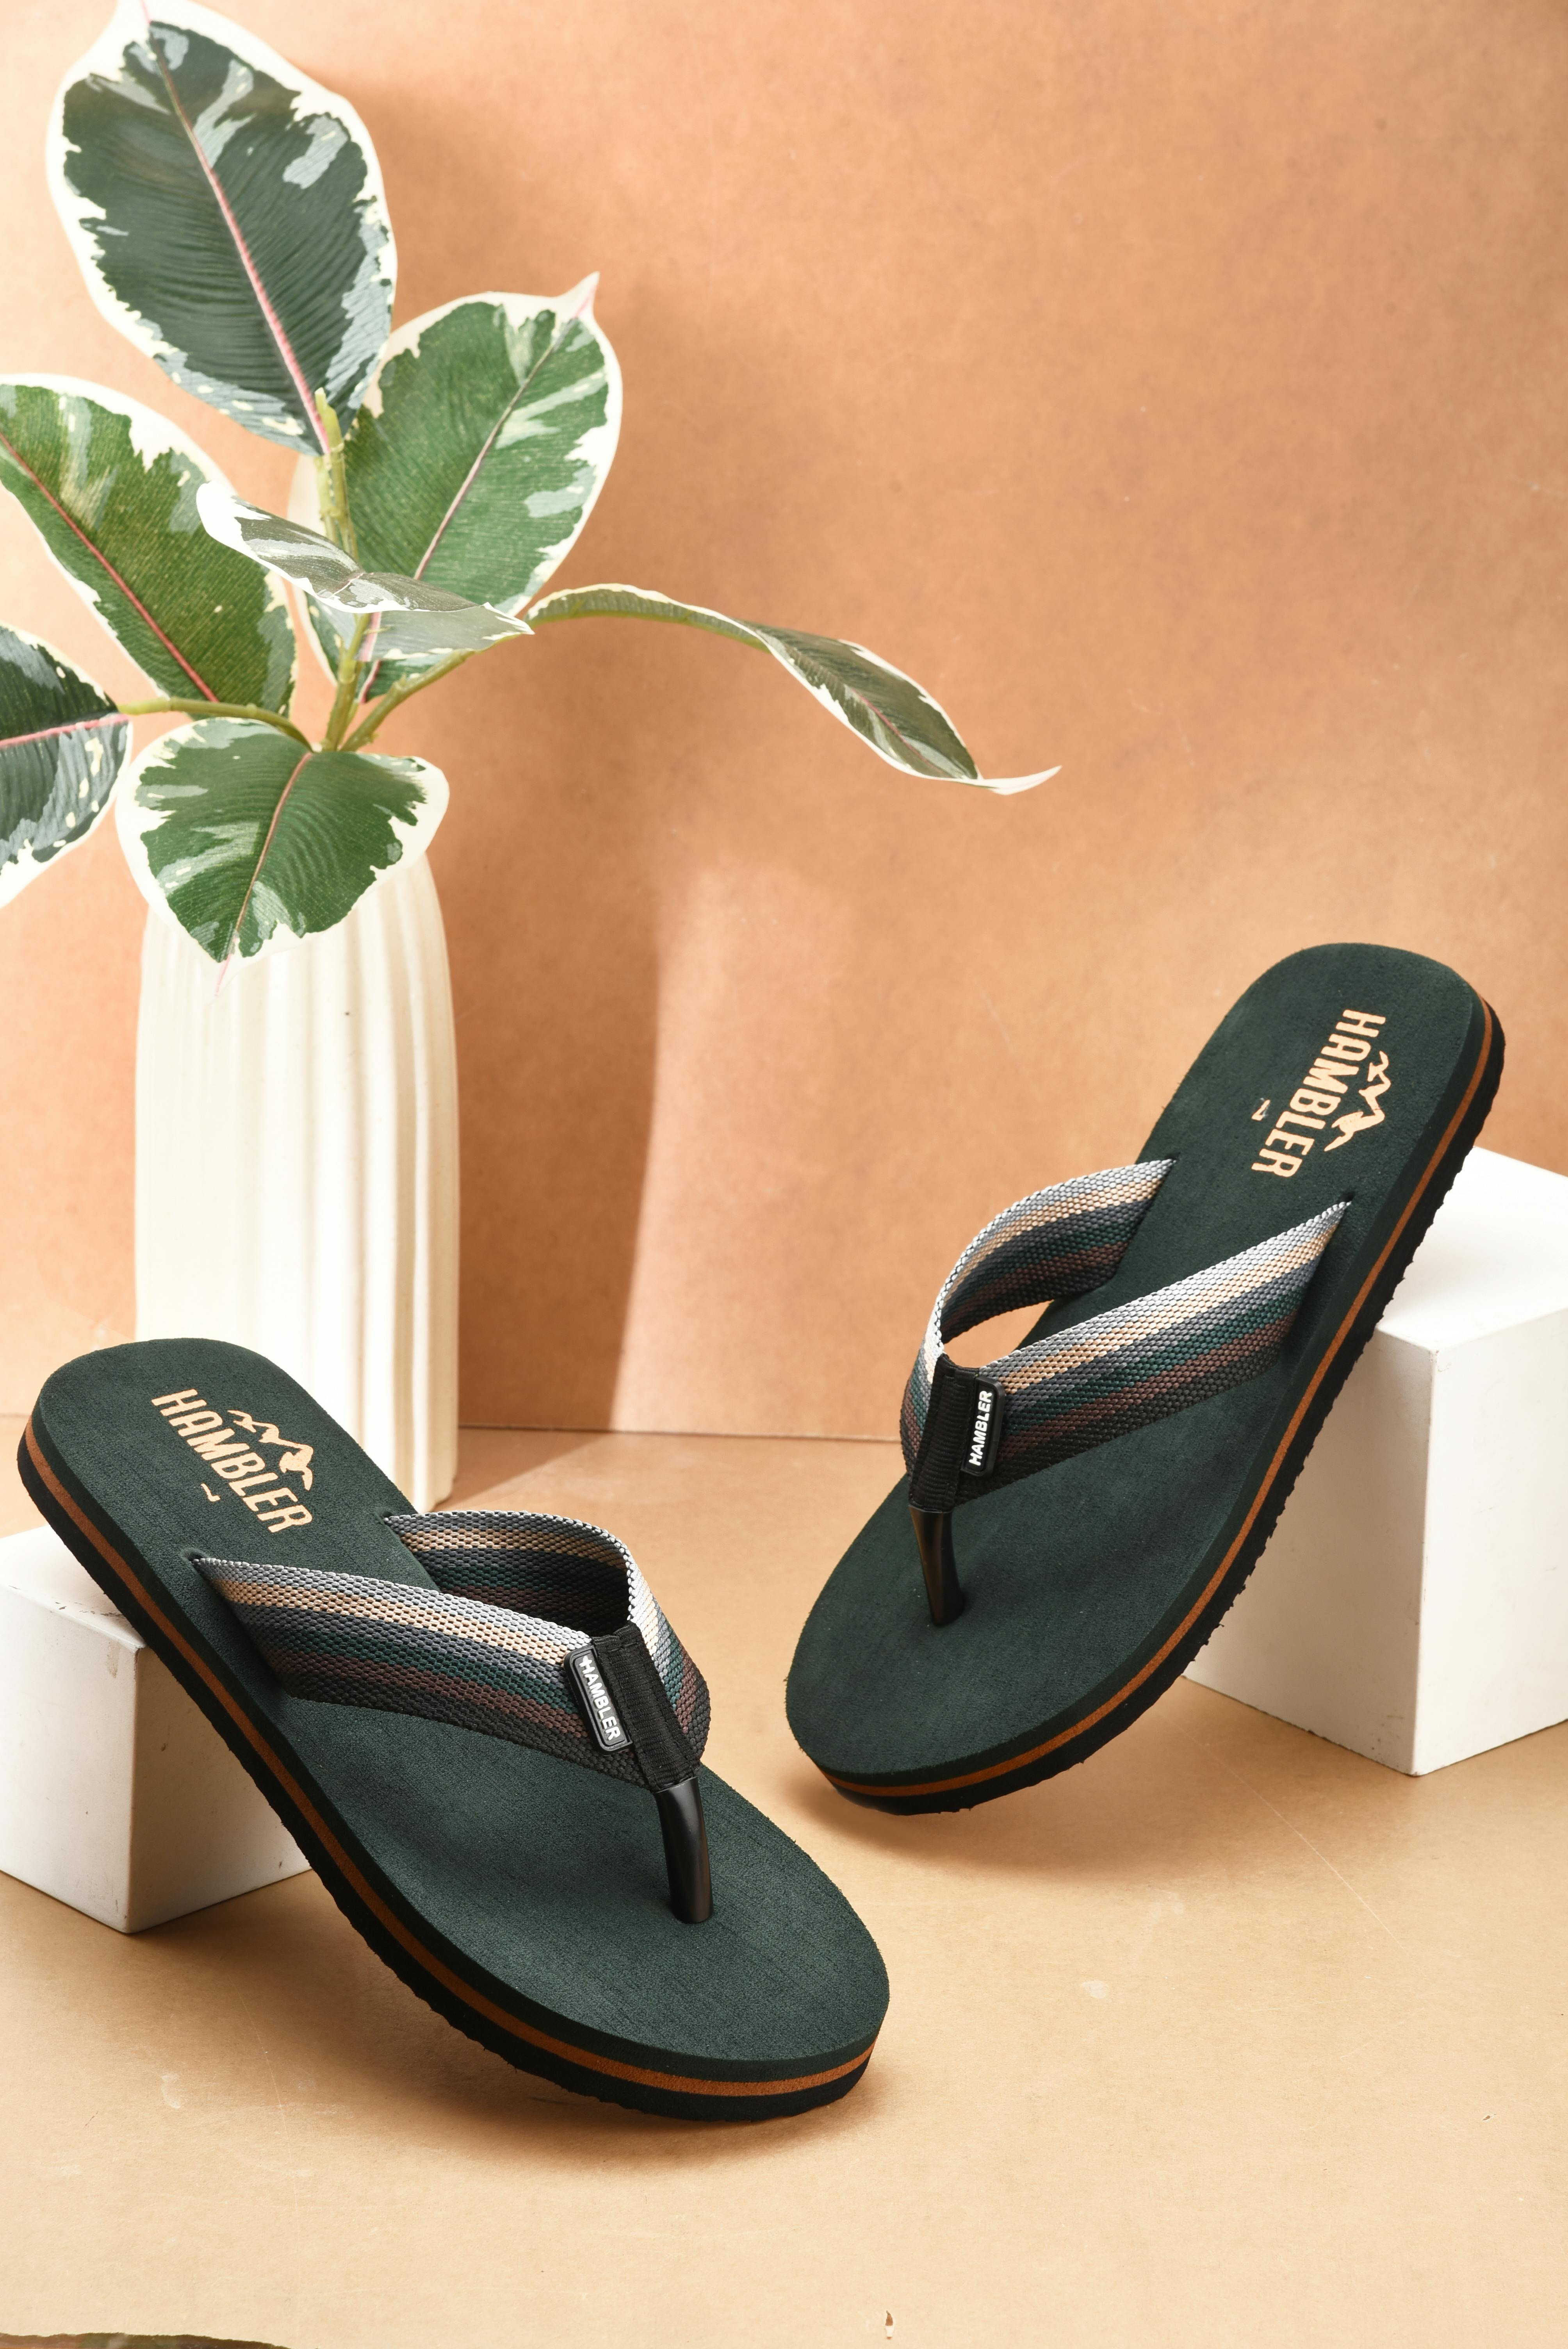Footwear: (37, 1285, 906, 2160), (796, 891, 1503, 1831)
